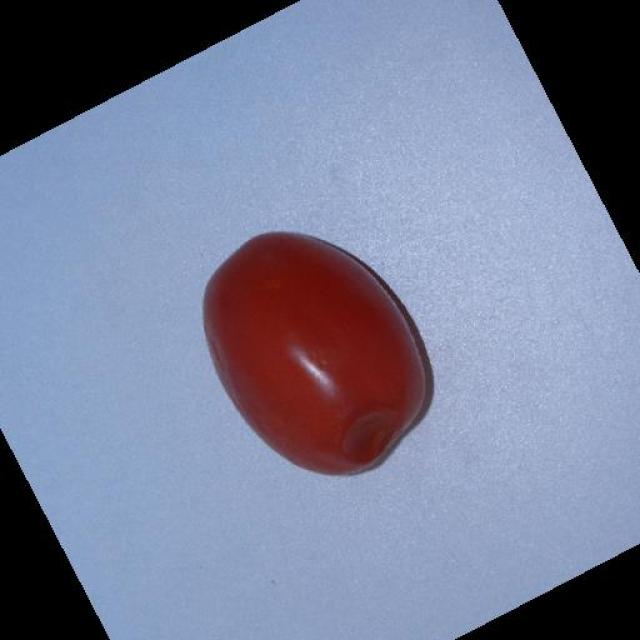Stale_tomato: (296, 349, 424, 489)
